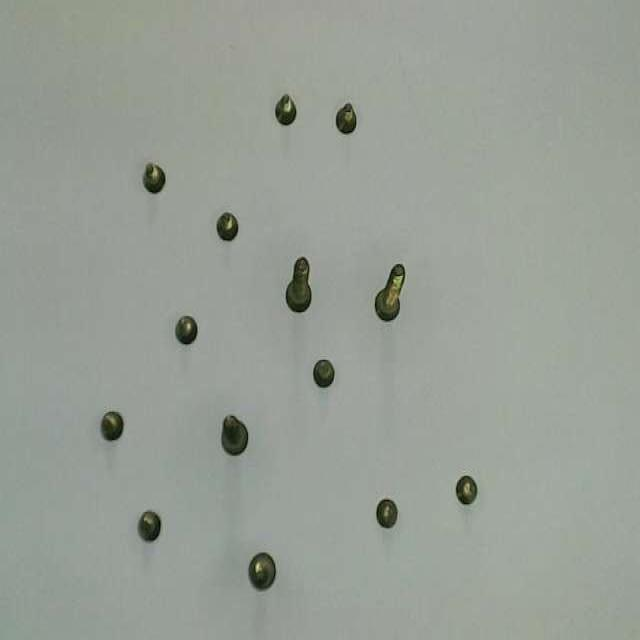Parafuso: (375, 264, 404, 321), (286, 258, 311, 311), (221, 415, 247, 455), (248, 552, 275, 590), (138, 511, 160, 542), (143, 163, 165, 193), (175, 315, 197, 345), (101, 411, 123, 441), (275, 94, 296, 125), (216, 212, 238, 241), (376, 499, 397, 529), (336, 103, 356, 134), (456, 476, 477, 505), (313, 359, 334, 387)
